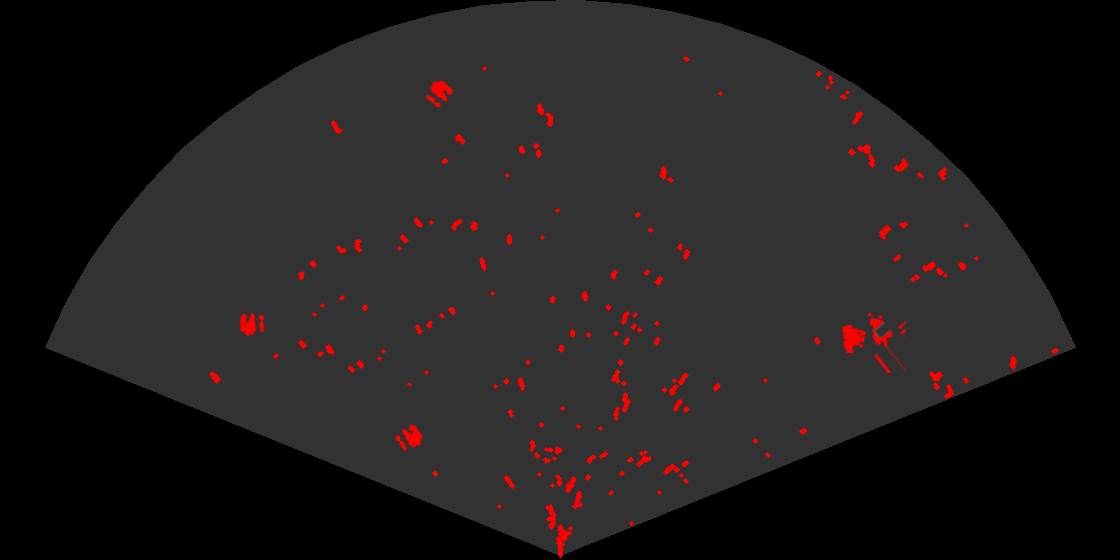ball: (425, 79, 454, 109), (394, 423, 424, 452), (239, 311, 265, 337)
cage: (840, 311, 906, 373)
